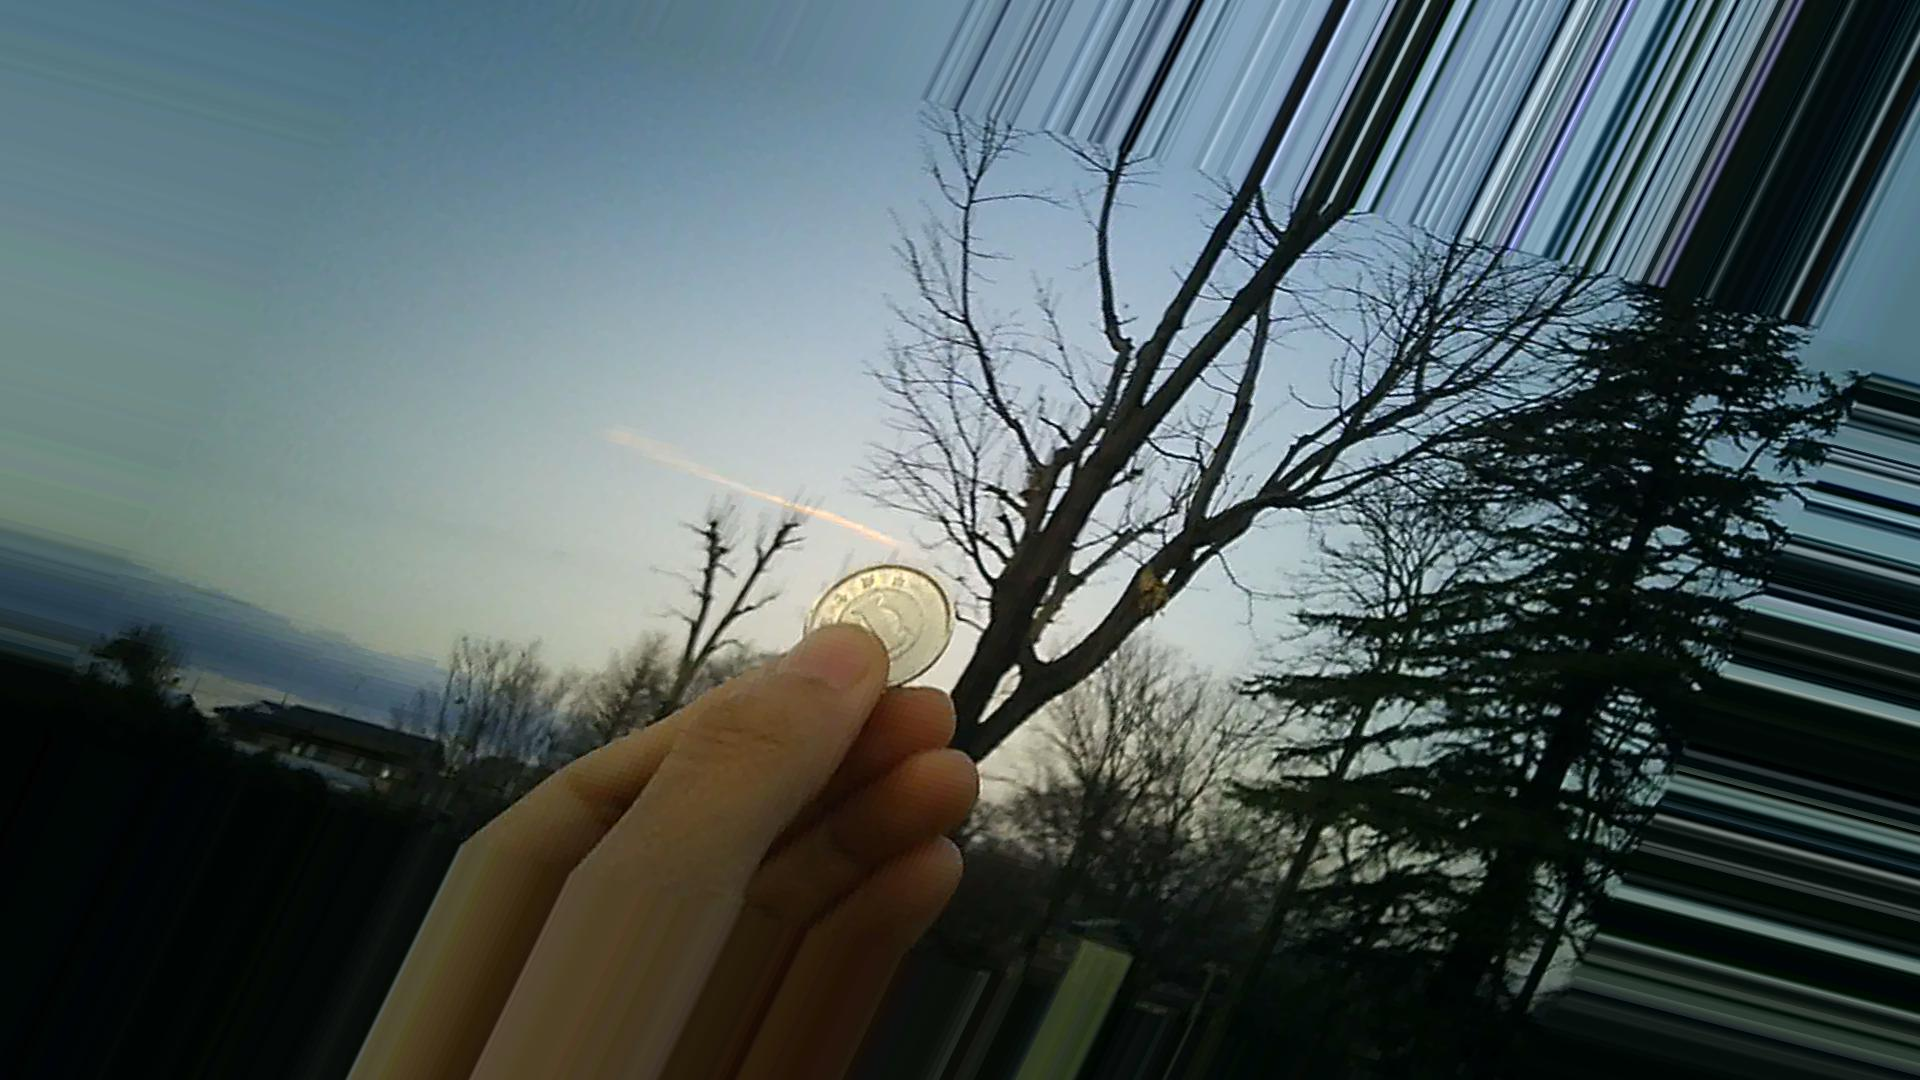1 Yen: (804, 556, 971, 712)
